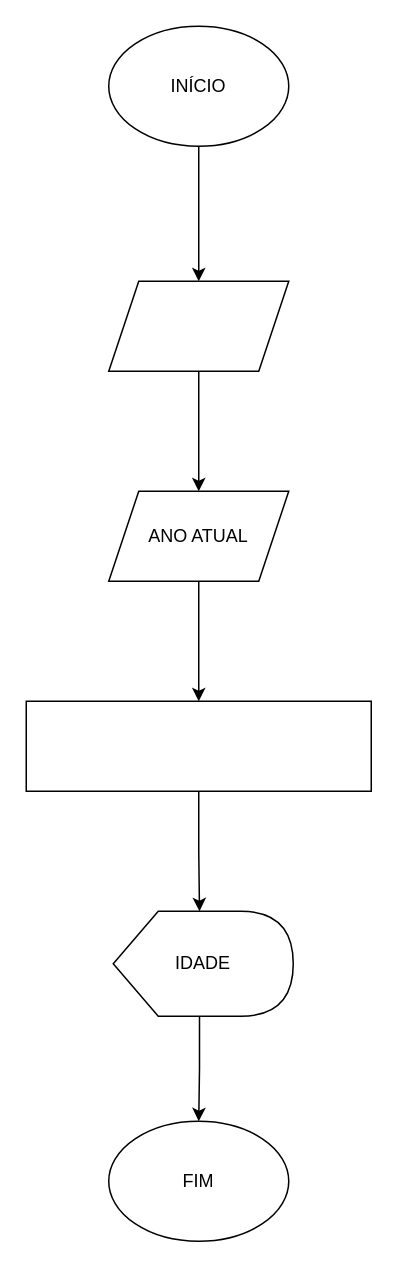
This 398x1268 diagram has some shape labels left out. Here are the shapes that lost their labels. From the top down, the centre of each, then its label:
the point at 198,325: ANO DE NASCIMENTO
the point at 198,745: IDADE = ANO ATUAL - ANO DE NASCIMENTO
